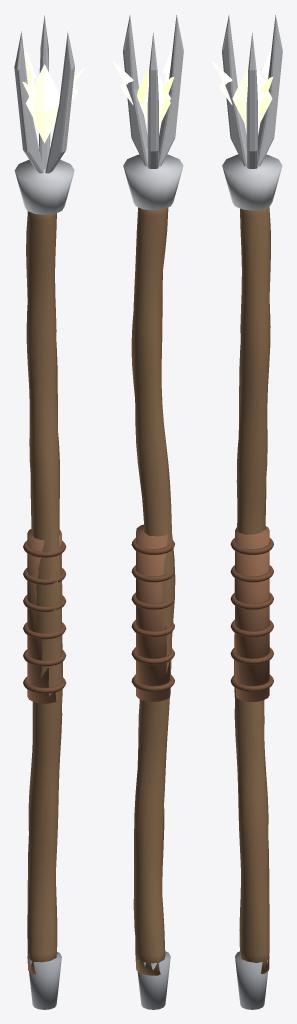
The model's file is cajado-raio-490.glb.
The picture shows the model from 3 angles, left to right: view 1: azimuth 90°, elevation 25°; view 2: azimuth 150°, elevation 25°; view 3: azimuth 270°, elevation 25°; orthographic projection.
Visible parts, largest first — view 1: cajado-raio; view 2: cajado-raio; view 3: cajado-raio.
Part boxes in pixels (bbox=[...]): cajado-raio: bbox=[14, 15, 84, 1009]; cajado-raio: bbox=[113, 14, 183, 1009]; cajado-raio: bbox=[212, 14, 282, 1009].
Size of the model in its own units: 0.1069 by 1.62 by 0.1056.
